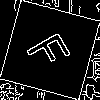F: (25, 25, 80, 74)
